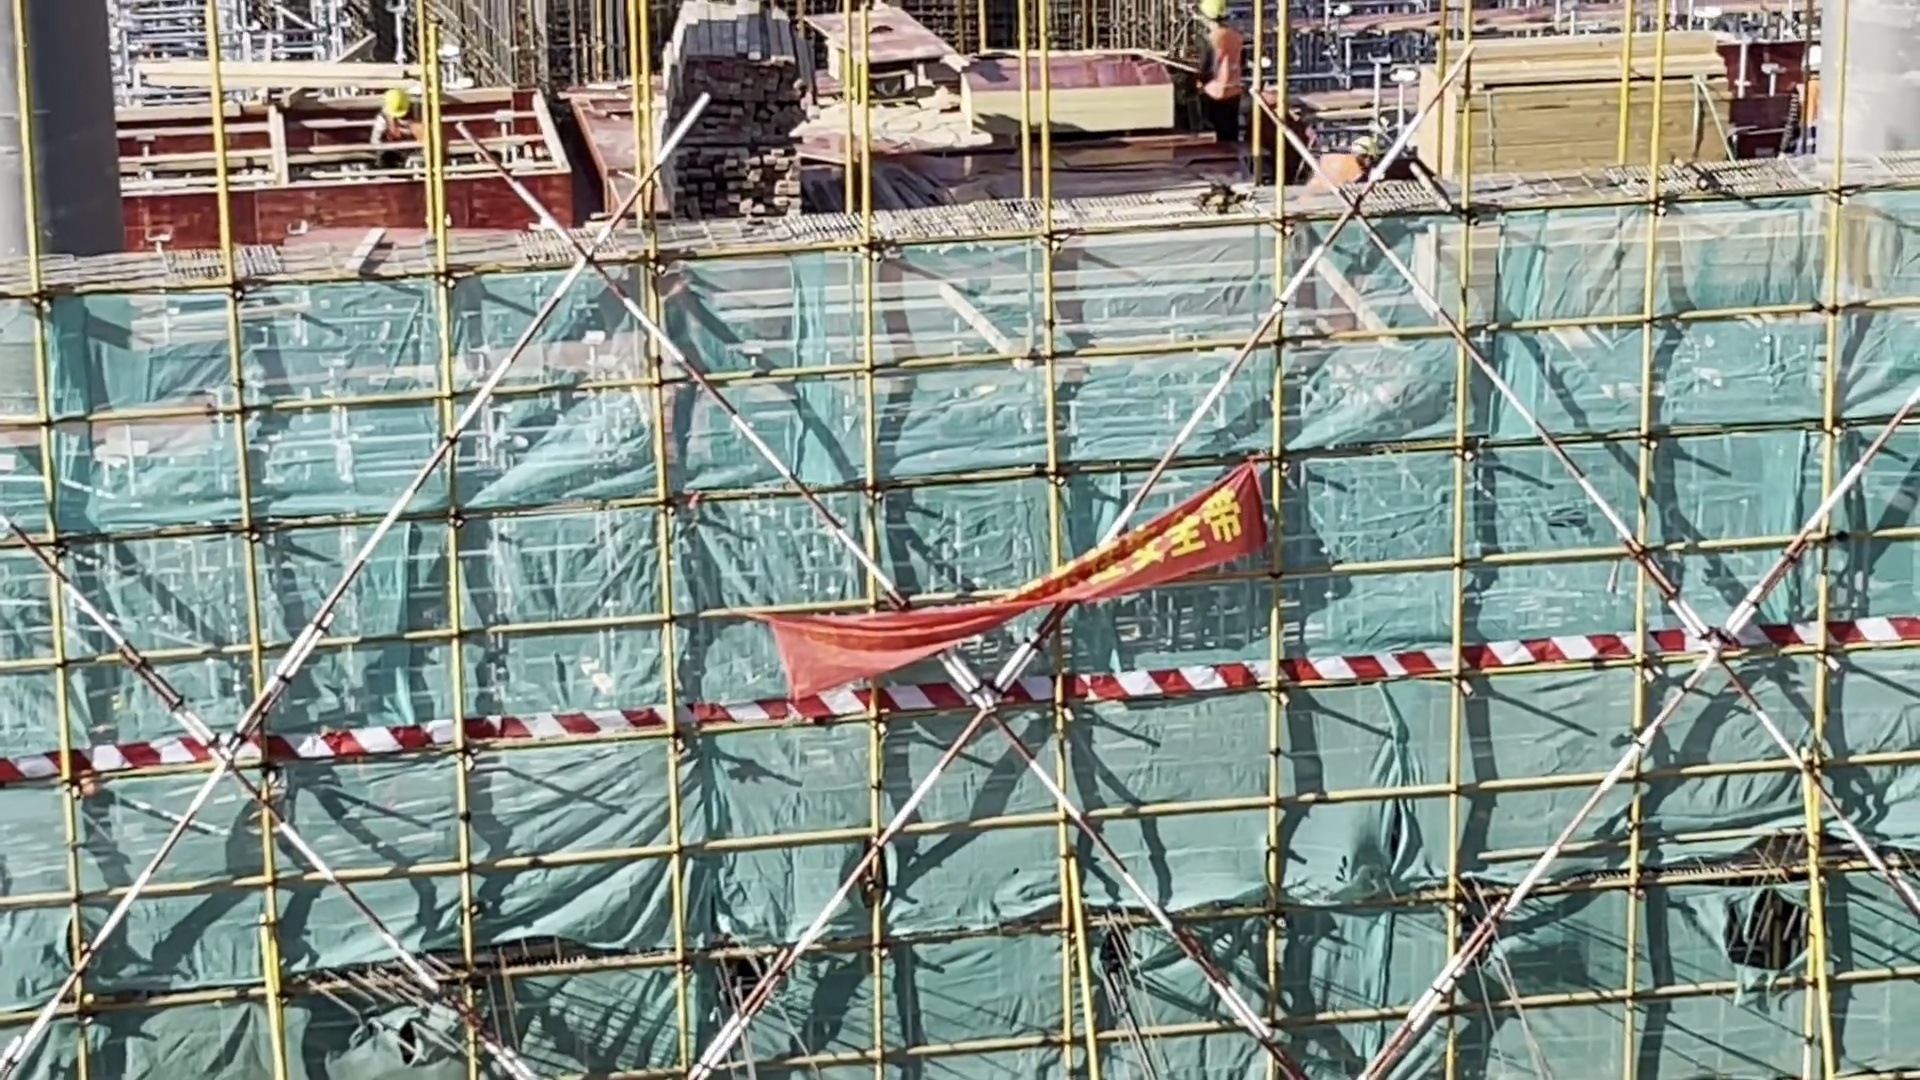helmet: (377, 86, 415, 124), (1797, 35, 1828, 76), (1197, 1, 1229, 26)
person: (1185, 1, 1254, 180), (1780, 46, 1825, 161), (364, 89, 430, 154)
vest: (1197, 13, 1247, 108), (1795, 67, 1828, 141)
